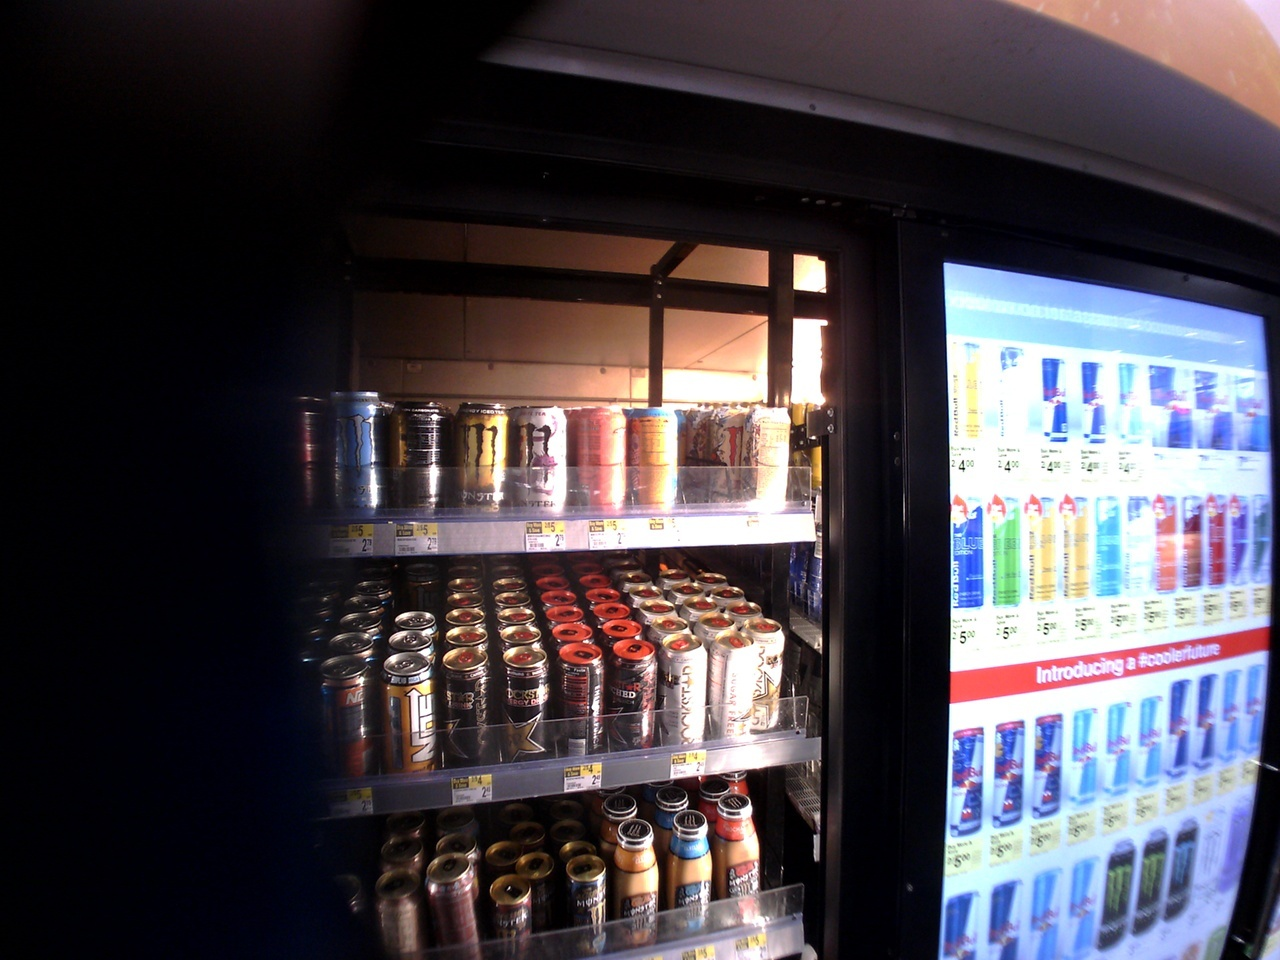shelf: (299, 550, 828, 773), (321, 784, 819, 960), (264, 374, 819, 532)
